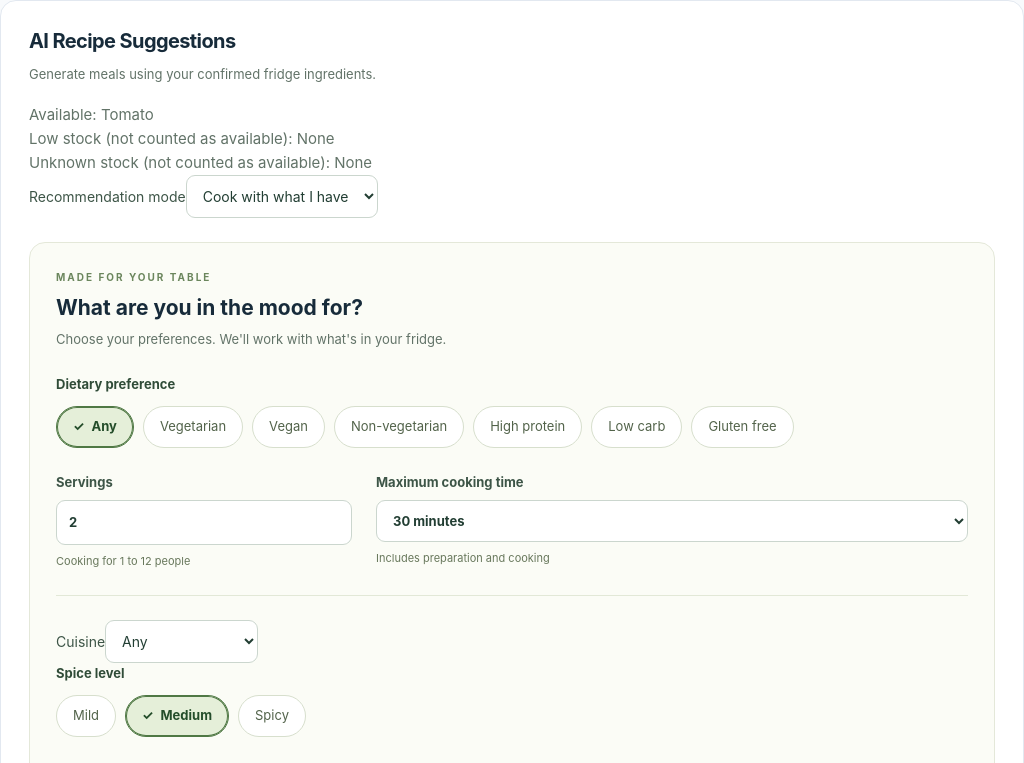
Test case: recipe preferences › disables invalid servings and restores valid selection
The image size is (1024, 763).
Replace the text in the number field labelled "Servings" with "13". click: (204,523)
box: [56,500,352,545]
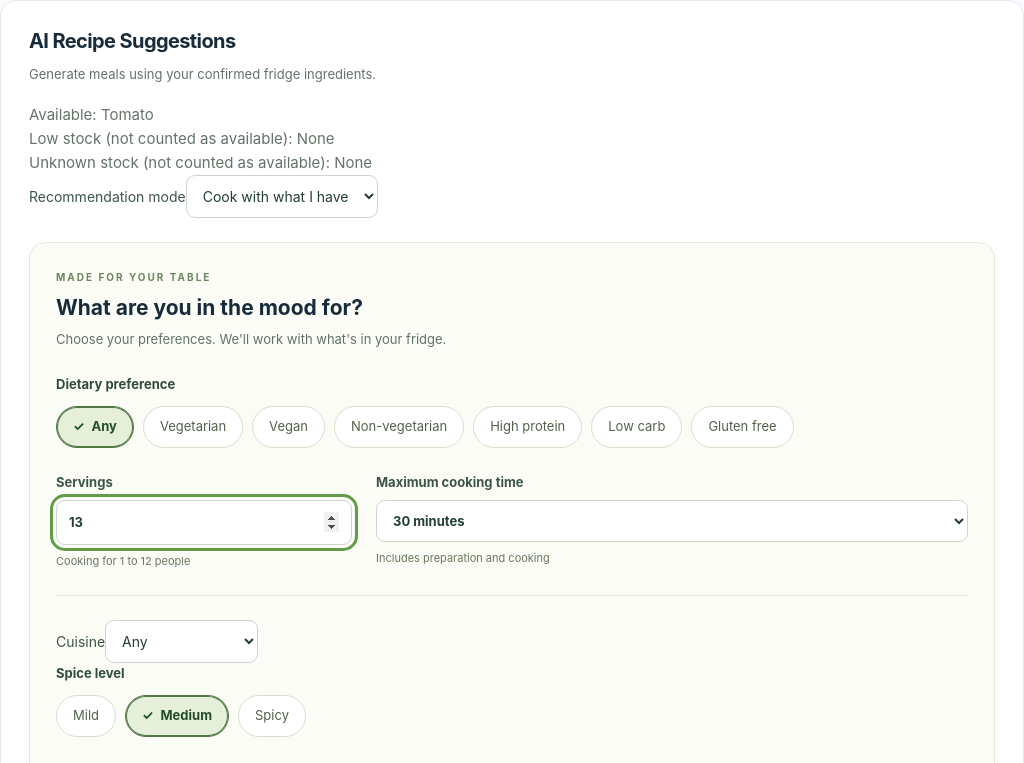
Replace the text in the number field labelled "Servings" with "12". click: (204,523)
box: [56,500,352,545]
(page scrolled)
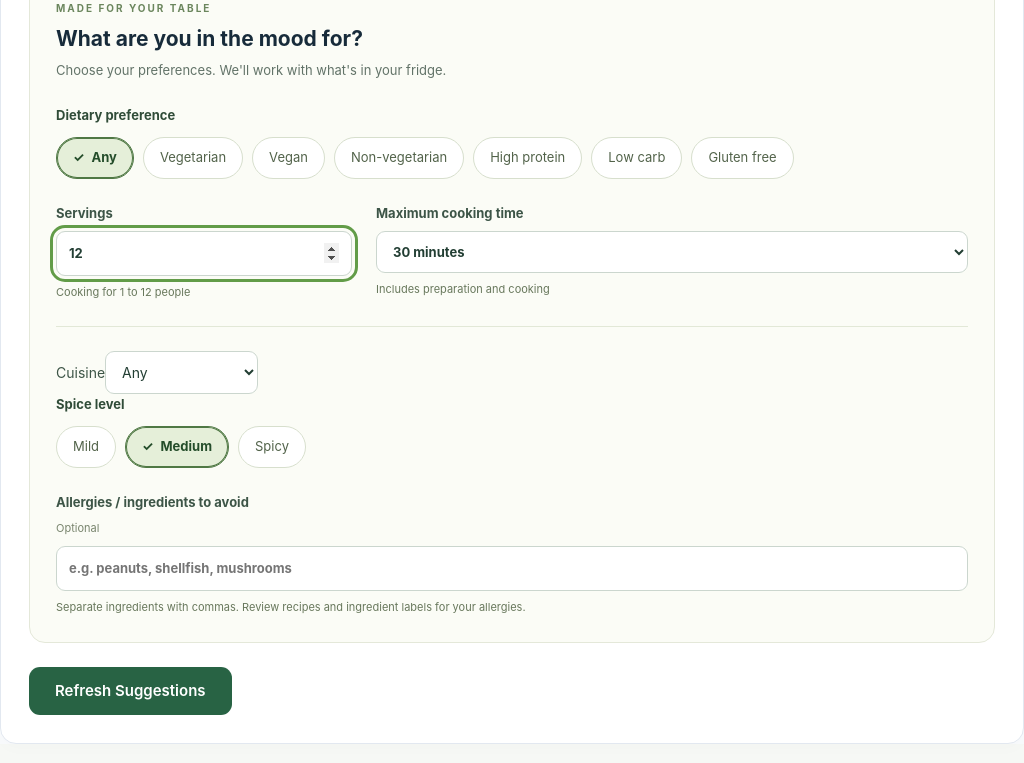
Expected: the button "Refresh Suggestions" is enabled, [29,667,232,715]
